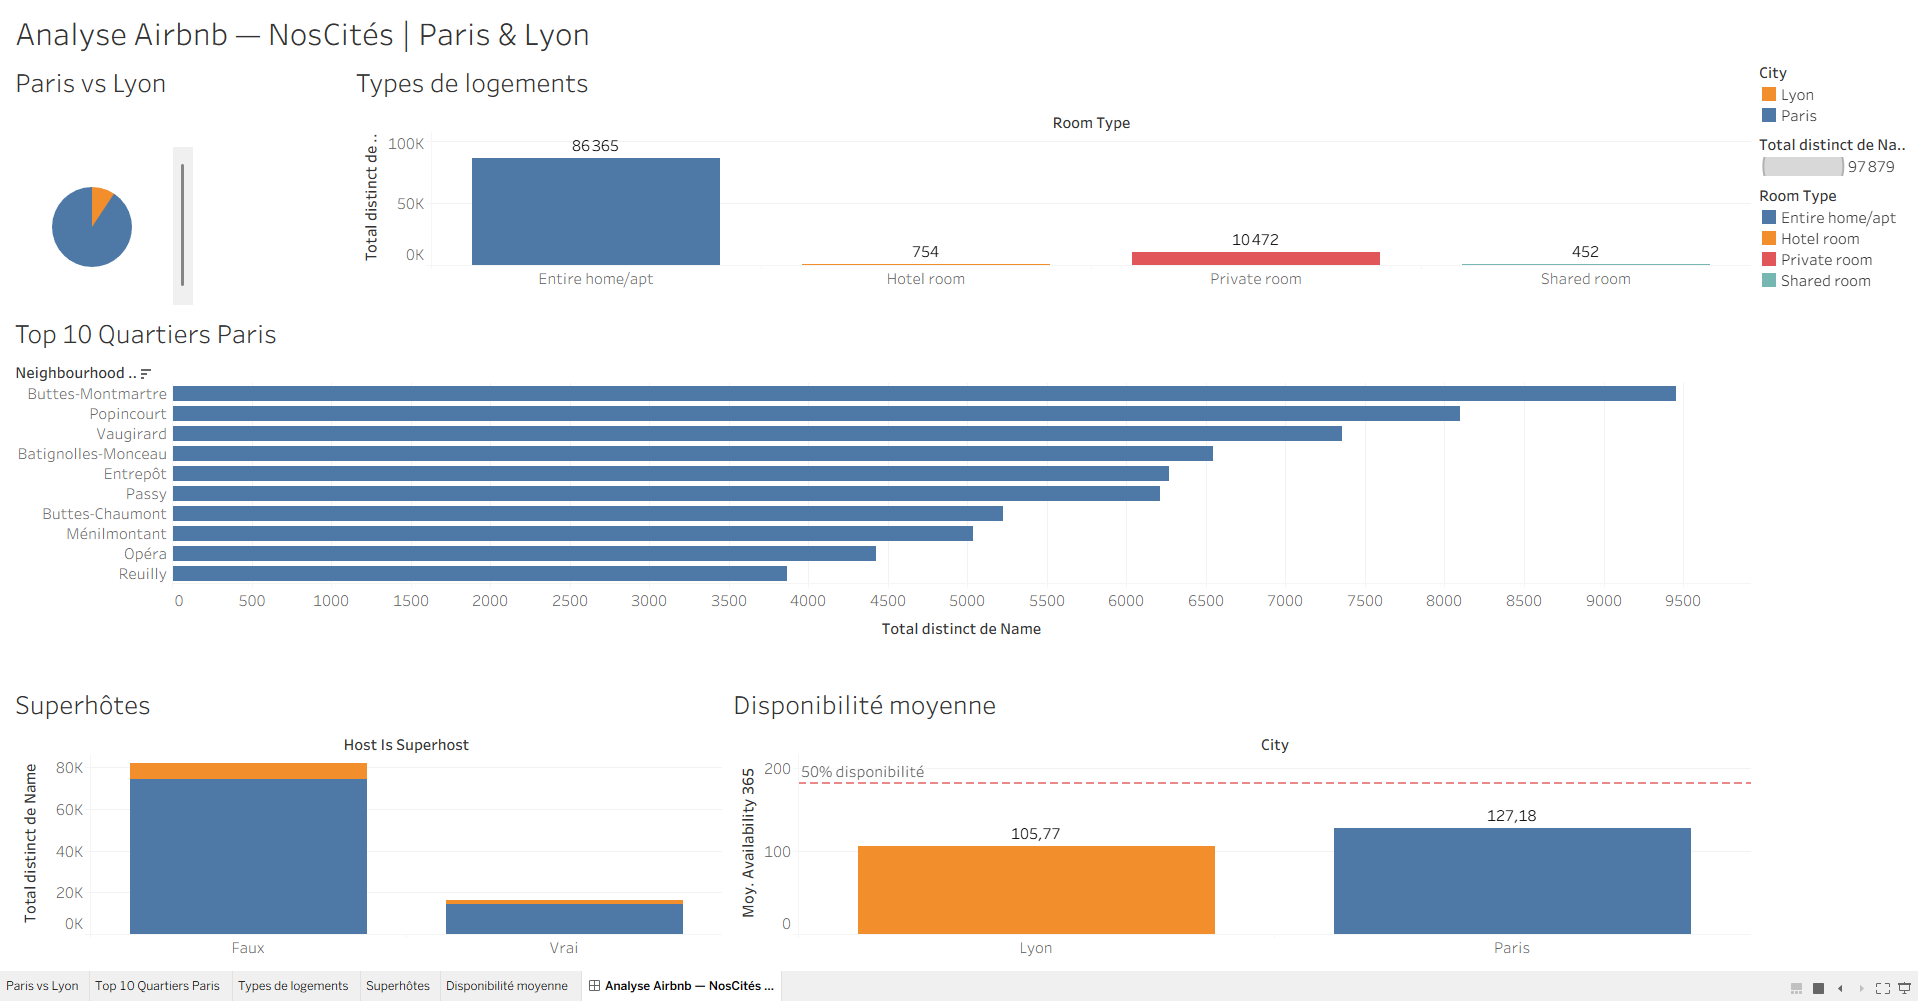

What the dashboard file says about the page in this screenshot:
{"tool":"tableau","page":{"name":"Analyse Airbnb — NosCités | Paris & Lyon","canvas":[1000,1000],"units":"permille","ordinal":0},"visuals":[{"type":"worksheet","title":"Paris vs Lyon","mark":"Pie","box":[4.8,9.2,175,272.7]},{"type":"worksheet","title":"Types de logements","mark":"Automatic","rows":["name"],"cols":["room_type"],"box":[179.8,9.2,721.8,272.7]},{"type":"legend","title":"Paris vs Lyon","param":"[federated.0x9mq260mk2a0r19adwxr02cm5zt].[none:city:nk]","box":[901.6,9.2,93.5,82.9]},{"type":"legend","title":"Paris vs Lyon","param":"[federated.0x9mq260mk2a0r19adwxr02cm5zt].[ctd:name:qk]","box":[901.6,92.1,93.5,58.7]},{"type":"legend","title":"Types de logements","param":"[federated.0x9mq260mk2a0r19adwxr02cm5zt].[none:room_type:nk]","box":[901.6,150.8,93.5,131.2]},{"type":"worksheet","title":"Top 10 Quartiers Paris","mark":"Automatic","rows":["neighbourhood_cleansed"],"cols":["name"],"box":[4.8,281.9,896.8,401.6]},{"type":"worksheet","title":"Superhôtes","mark":"Automatic","rows":["name"],"cols":["host_is_superhost"],"box":[4.8,683.5,368.7,307.3]},{"type":"worksheet","title":"Disponibilité moyenne","mark":"Automatic","rows":["availability_365"],"cols":["city"],"box":[373.6,683.5,528.1,307.3]}]}

Visuals, with their boxes on the dashboard's canvas, which has no fixed pixel size, in thousandths of its width and height (x1, y1, x2, y2). These are canvas units, not pixel positions in the 1918x1001 screenshot, which may show the page scaled, cropped or inside an application window:
"Paris vs Lyon" worksheet (Pie marks): locate(5, 9, 180, 282)
"Types de logements" worksheet: locate(180, 9, 902, 282)
"Paris vs Lyon" legend: locate(902, 9, 995, 92)
"Paris vs Lyon" legend: locate(902, 92, 995, 151)
"Types de logements" legend: locate(902, 151, 995, 282)
"Top 10 Quartiers Paris" worksheet: locate(5, 282, 902, 684)
"Superhôtes" worksheet: locate(5, 684, 374, 991)
"Disponibilité moyenne" worksheet: locate(374, 684, 902, 991)
